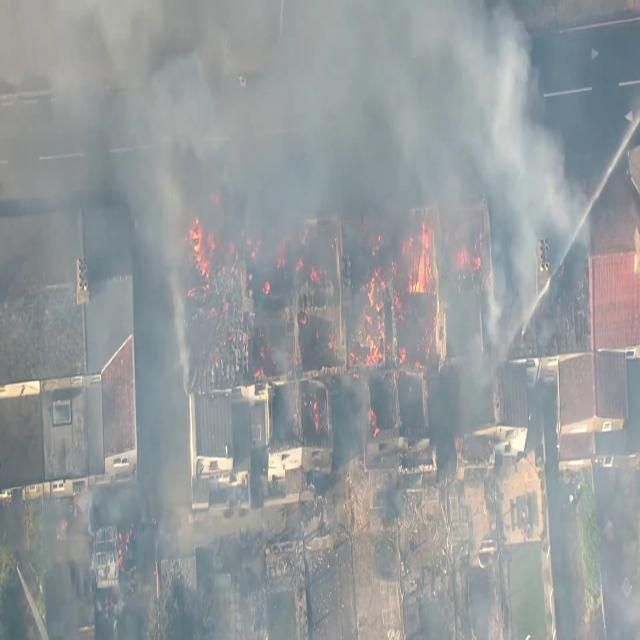Fire: (402, 209, 438, 295)
Smoke: (285, 3, 495, 177), (150, 0, 266, 192)
